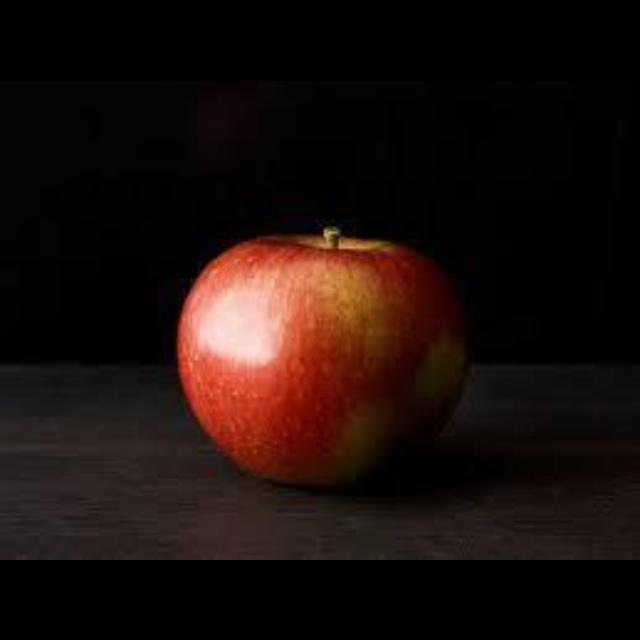apple: (178, 226, 467, 480)
